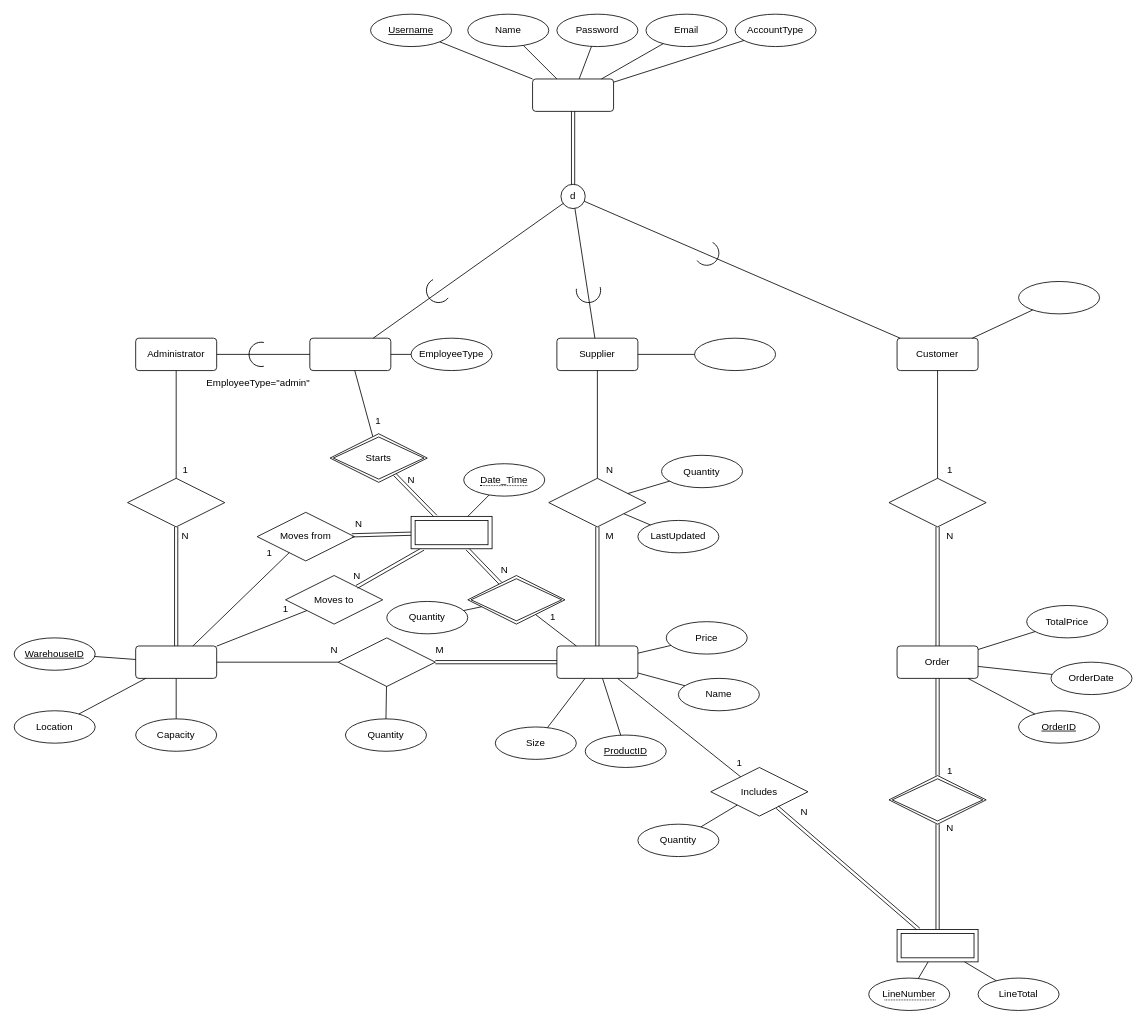
This 1146x1025 diagram has some shape labels left out. Here are the shapes that lost their labels. From the top down, the centre of each, then its label:
At (573,94): "Account".
At (1059,297): "Budget".
At (350,354): "Employee".
At (735,354): "CompanyName".
At (176,502): "Adds".
At (597,502): "Supplies".
At (937,502): "Makes".
At (451,532): "Transfer".
At (516,599): "Relocates".
At (176,661): "Warehouse".
At (386,661): "stores".
At (597,661): "Product".
At (937,799): "Consists of".
At (937,945): "OrderLine".
